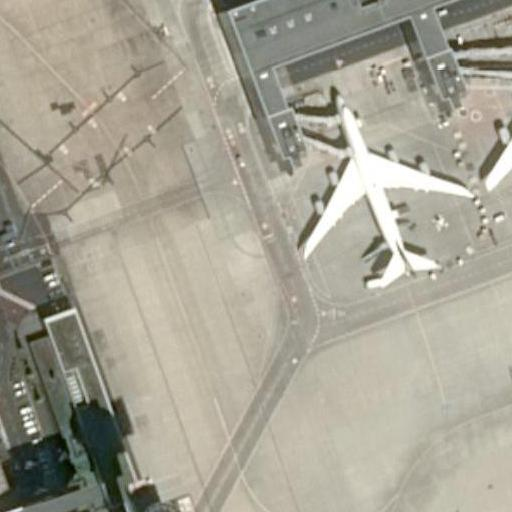Aircraft: (257, 97, 459, 289), (473, 13, 512, 223)
